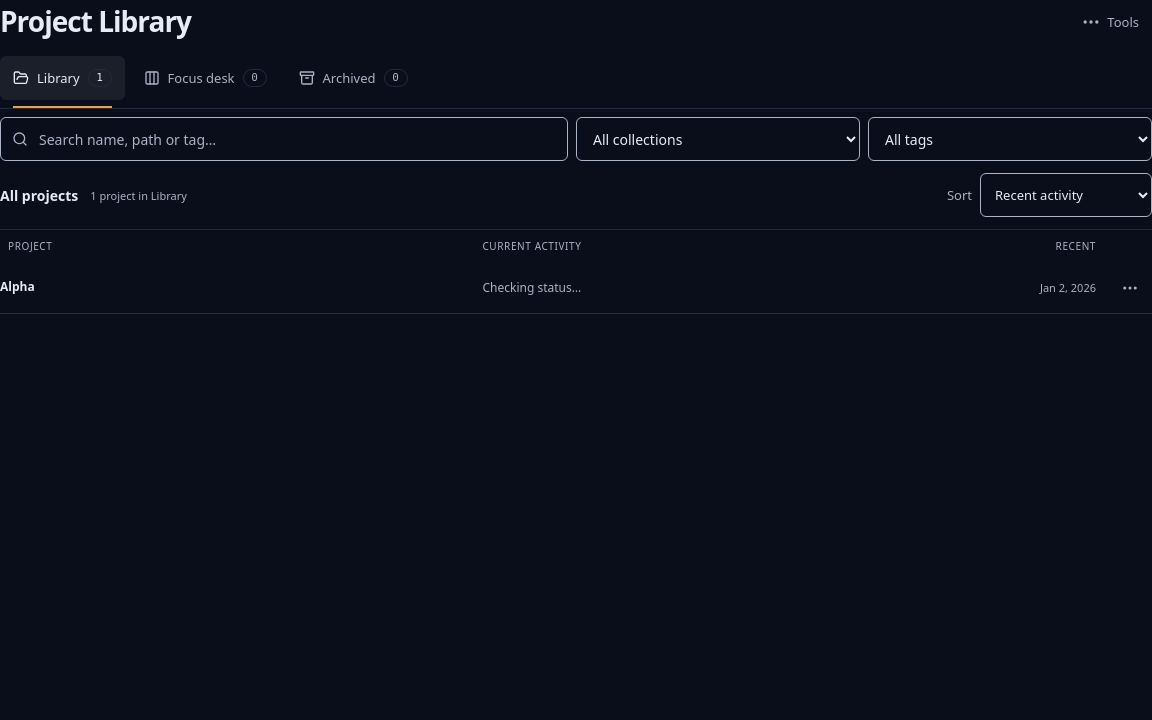
Scenario: Library presentation preserves organization and accessible actions › decorative icons do not change control names, selected state or commit affordances
This screenshot has width=1152, height=720.
Expected: the button with aria-label "Open Alpha" is shown, left=0, top=266, right=462, bottom=310
Click the heading named "Library tools" at (1110, 22), box left=1081, top=12, right=1139, bottom=32
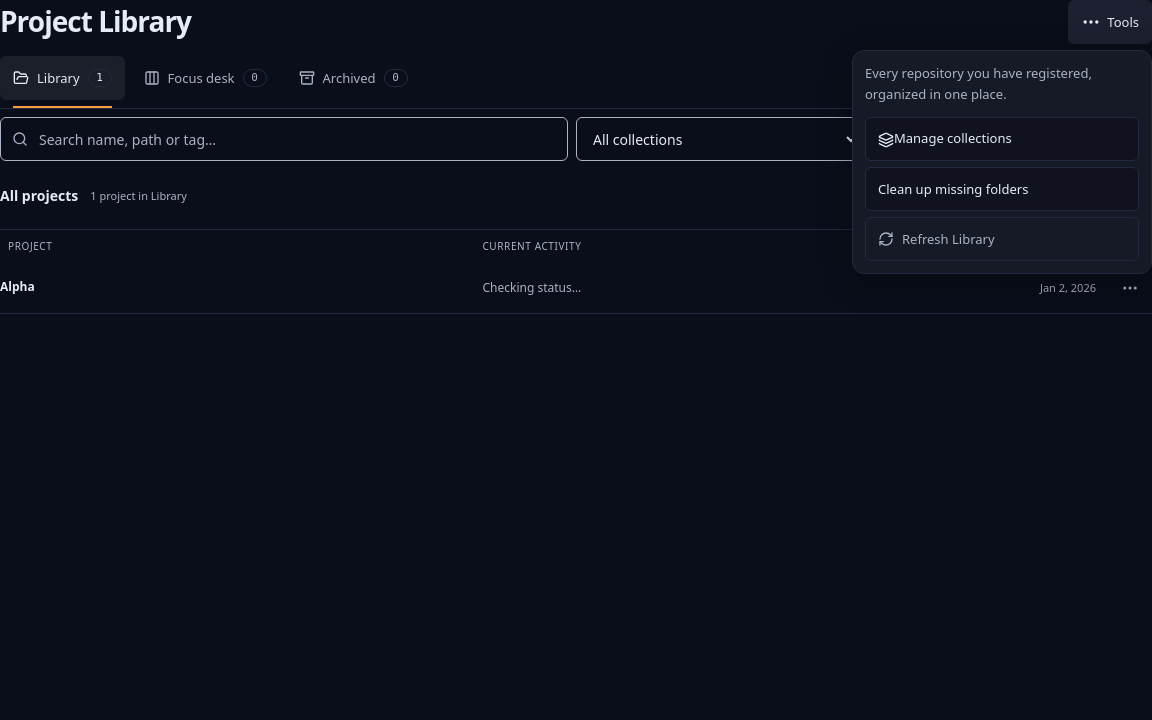
Expected: the button "Refresh Library" is enabled, left=865, top=217, right=1139, bottom=261
Click the button named "Details and organization for Alpha" at (1130, 288), box left=1108, top=266, right=1151, bottom=310
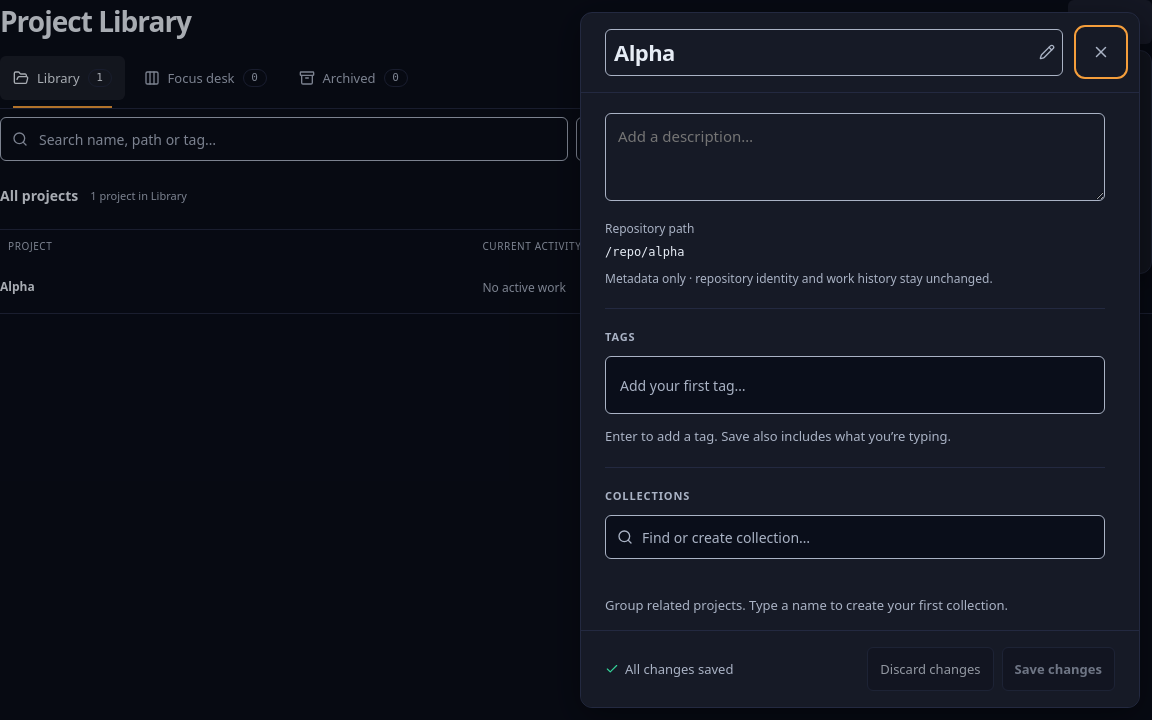
Type "Preserved description" into the text box labelled "description" at (855, 157), box left=605, top=113, right=1105, bottom=201
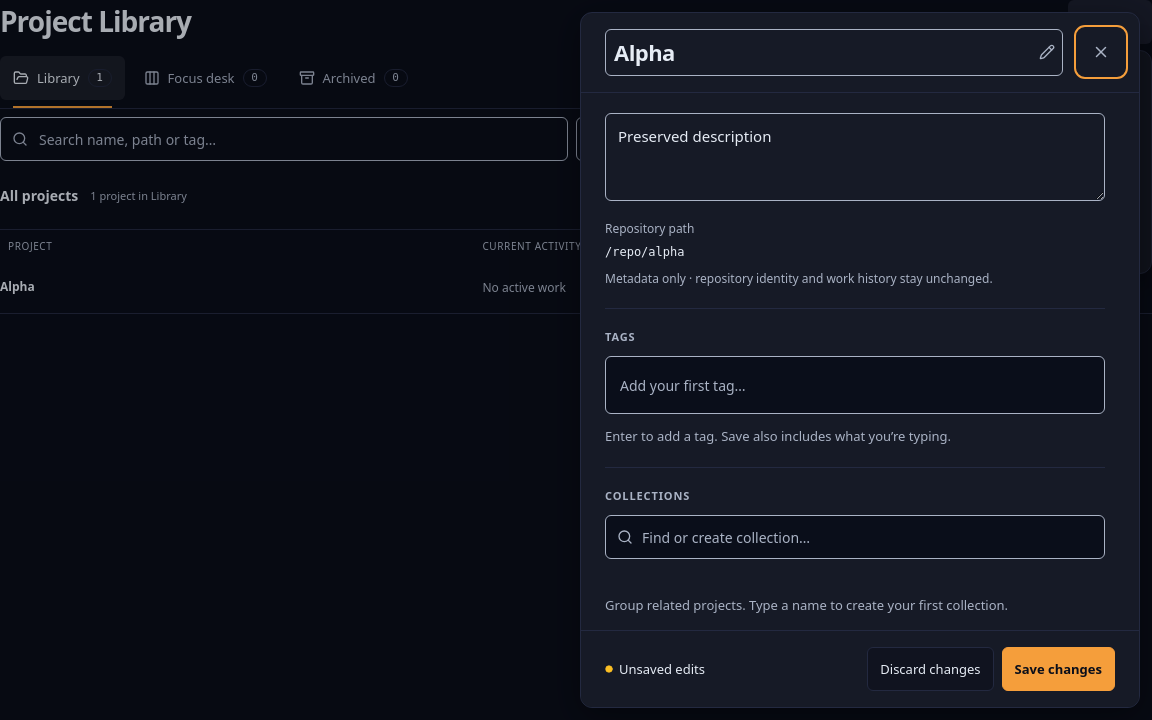
Click the button named "Close" at (1101, 52), box left=1079, top=30, right=1123, bottom=74
(page scrolled)
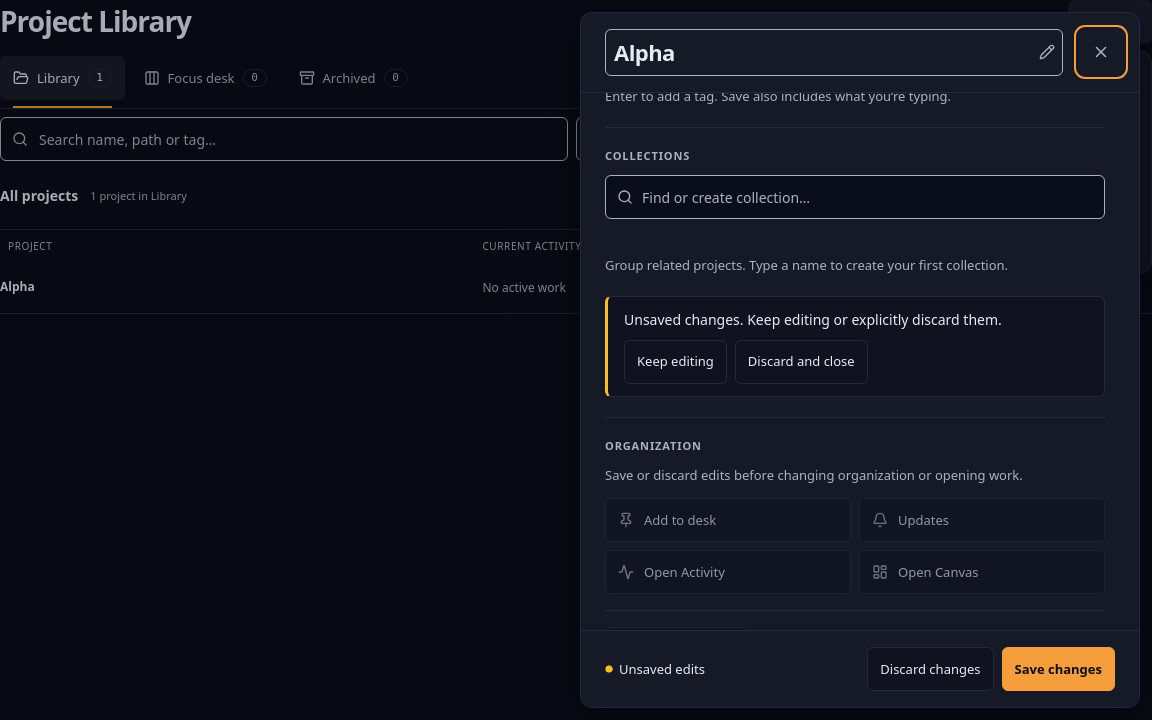
Click the button "Discard and close" at (801, 362), box left=735, top=340, right=868, bottom=384
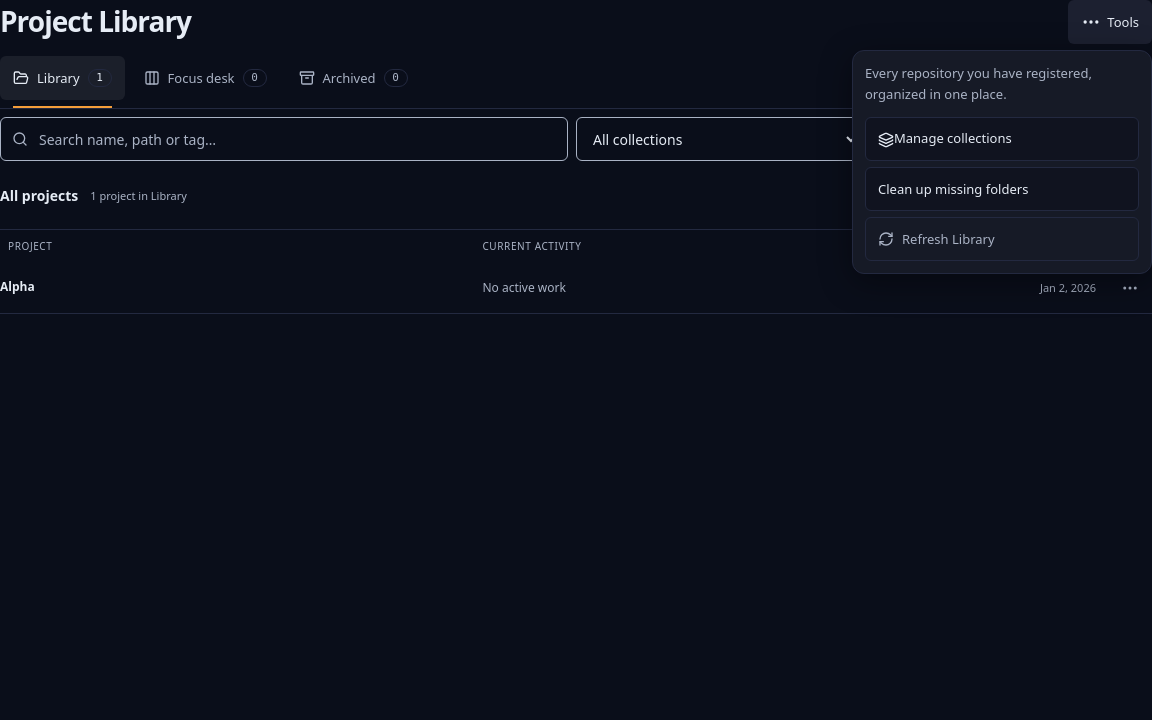
Expected: the dialog is gone
